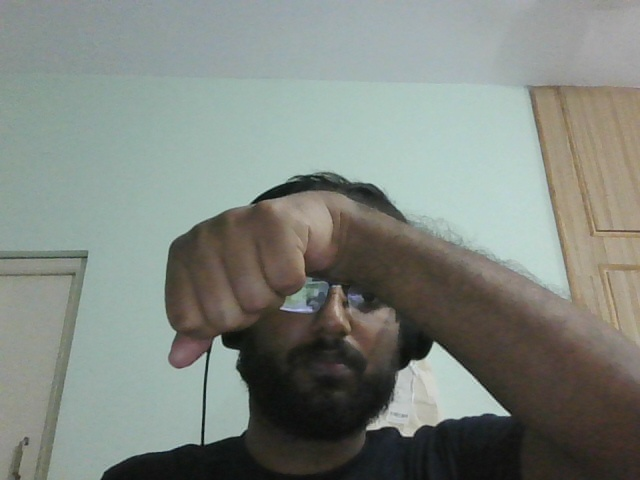Yes: (134, 182, 339, 369)
